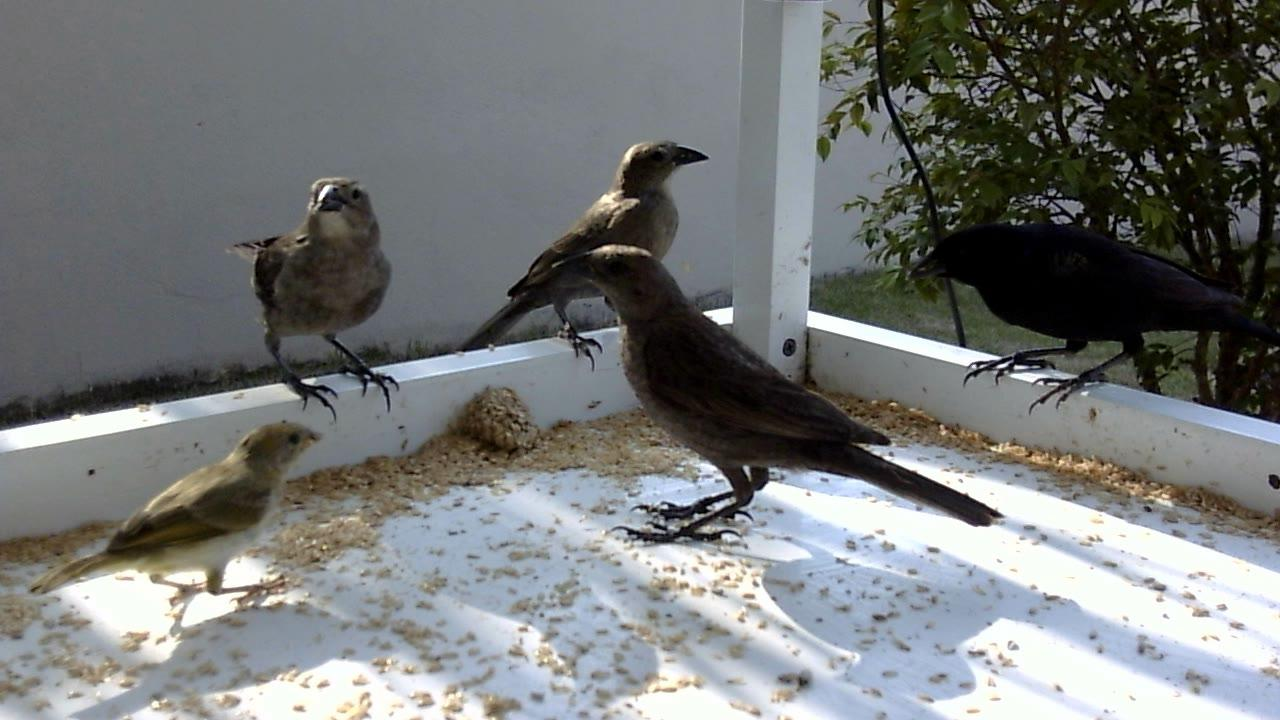canario_do_amazonas: (25, 422, 327, 610)
chupim: (551, 243, 1010, 550), (905, 219, 1280, 420), (461, 138, 714, 377), (221, 176, 406, 426)
